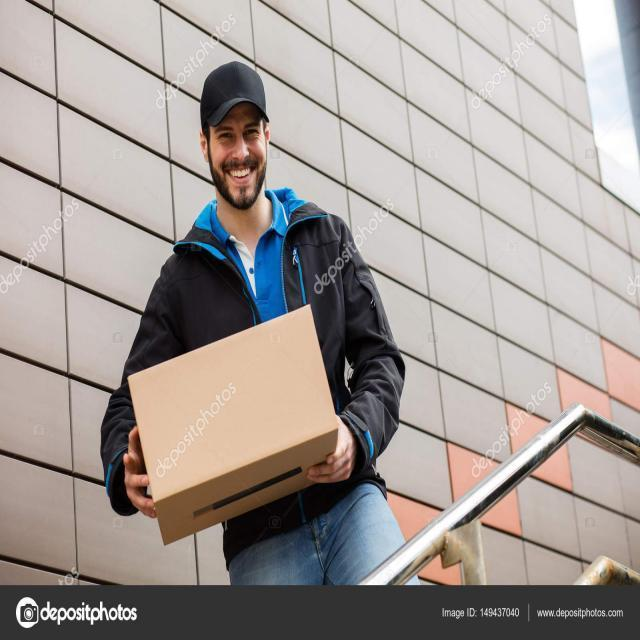box: (121, 290, 344, 552)
